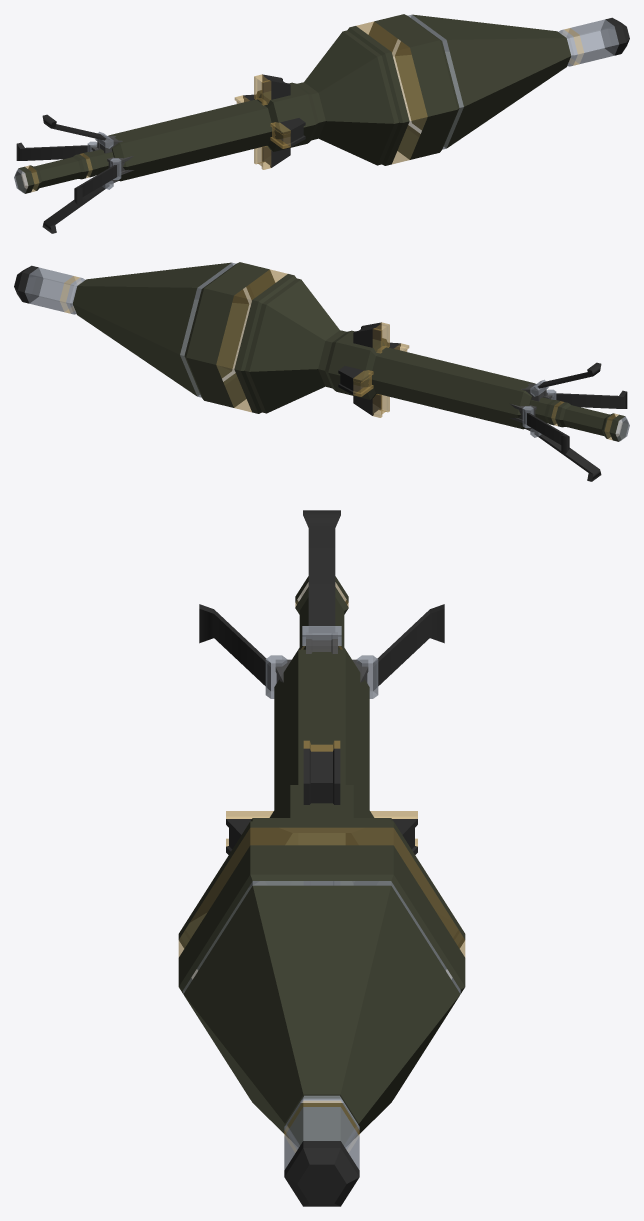
The model's file is enemyBullet.fbx.
3 views of the same model, one above another, from view 1: azimuth 30°, elevation 25°; view 2: azimuth 150°, elevation 25°; view 3: azimuth 270°, elevation 25° (orthographic). The views are drawn at different scales.
Parts seen in each view (by area): view 1: proiettile; view 2: proiettile; view 3: proiettile.
Boxes of the visible parts, x1,y1,x2,y2 form: proiettile: (14, 14, 629, 233); proiettile: (14, 262, 629, 481); proiettile: (178, 510, 465, 1206).
Bounding box in the file's own units: 524 × 93.14 × 108.
